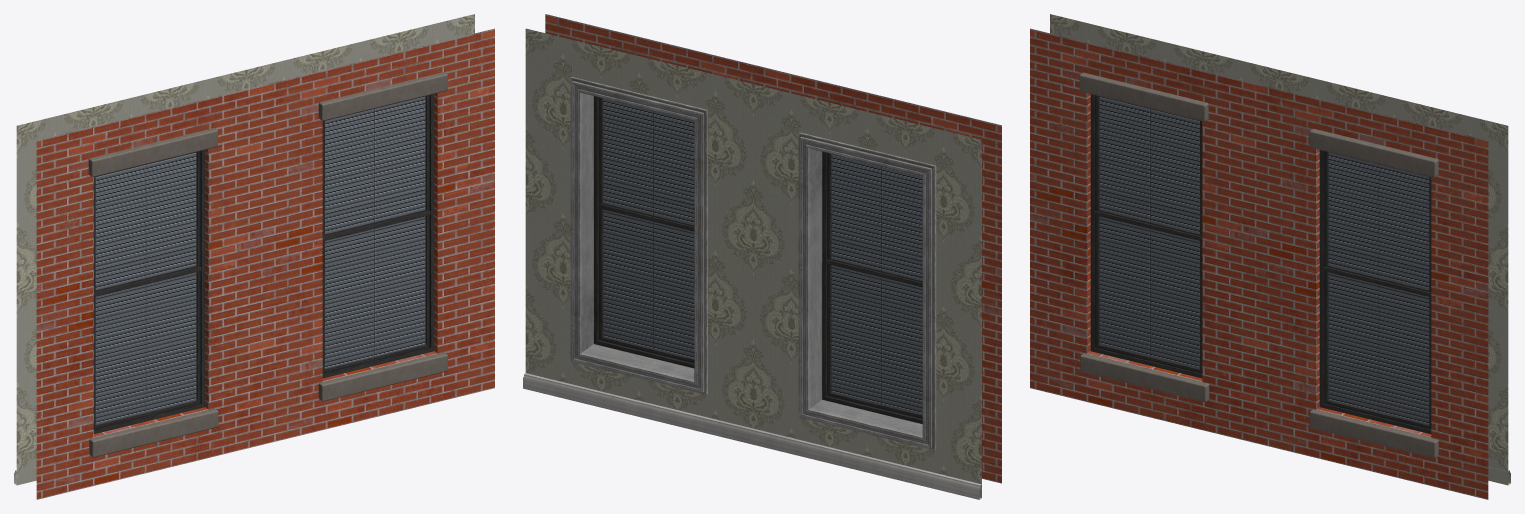
File: House_02_Window_01.fbx
The picture shows the model from 3 angles, left to right: view 1: azimuth 30°, elevation 25°; view 2: azimuth 150°, elevation 25°; view 3: azimuth 330°, elevation 25°; orthographic projection.
Visible parts, largest first — view 1: House_02_Window_01_LOD0; view 2: House_02_Window_01_LOD0; view 3: House_02_Window_01_LOD0.
Boxes of the visible parts, x1,y1,x2,y2 form: House_02_Window_01_LOD0: (14, 14, 494, 499); House_02_Window_01_LOD0: (523, 14, 1001, 499); House_02_Window_01_LOD0: (1030, 14, 1510, 499).
Size of what is drawn, in the model's own units: 400 by 300 by 39.17.
